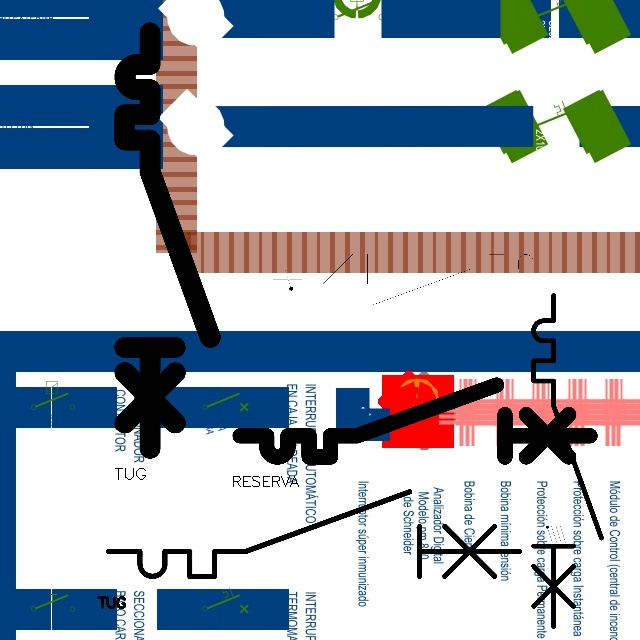interruptor_termomagnetico: (114, 22, 221, 459), (98, 481, 530, 587), (231, 376, 599, 466), (525, 287, 610, 635), (302, 248, 558, 310)
